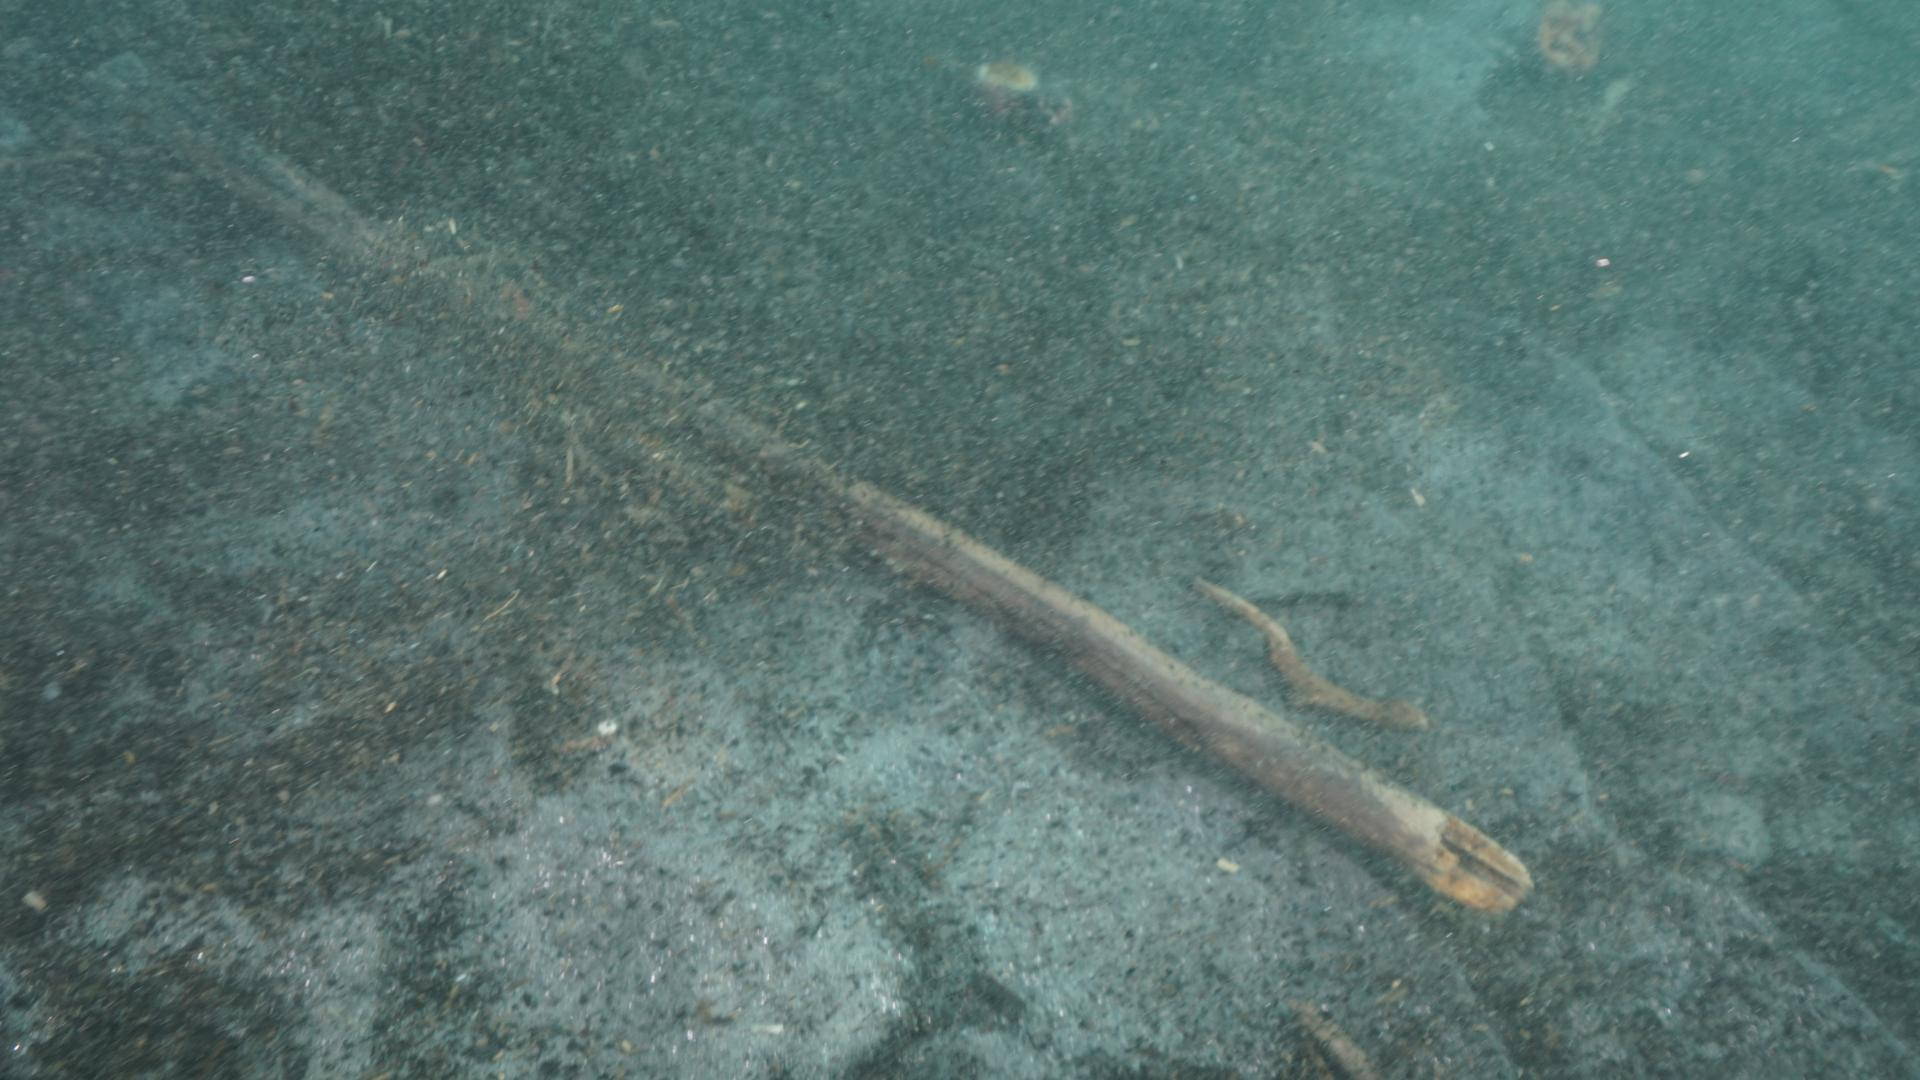wood: (146, 82, 1526, 920)
